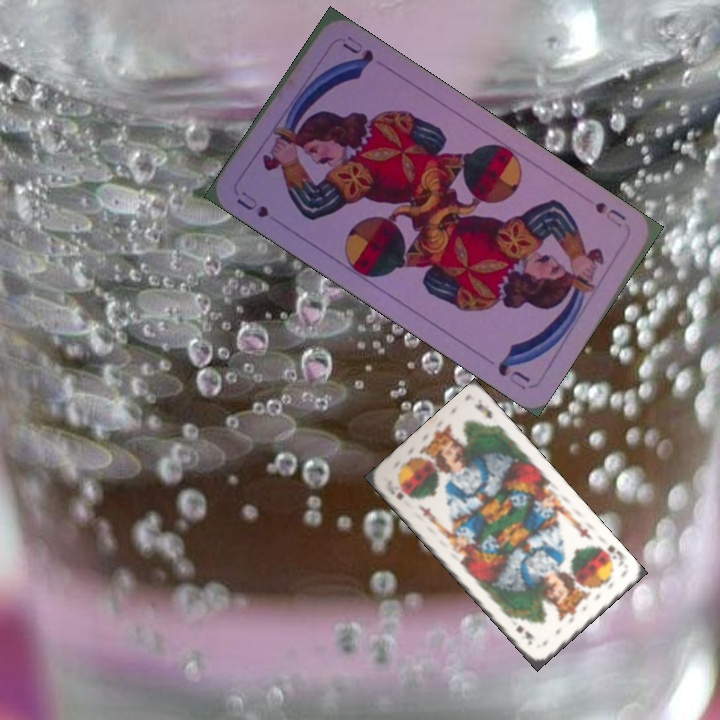SK: (594, 541, 627, 569), (383, 476, 406, 503)
SU: (232, 187, 272, 221), (590, 198, 629, 223)
